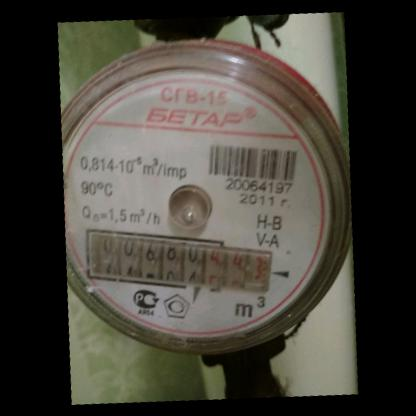digital_screen: (81, 224, 210, 291)
